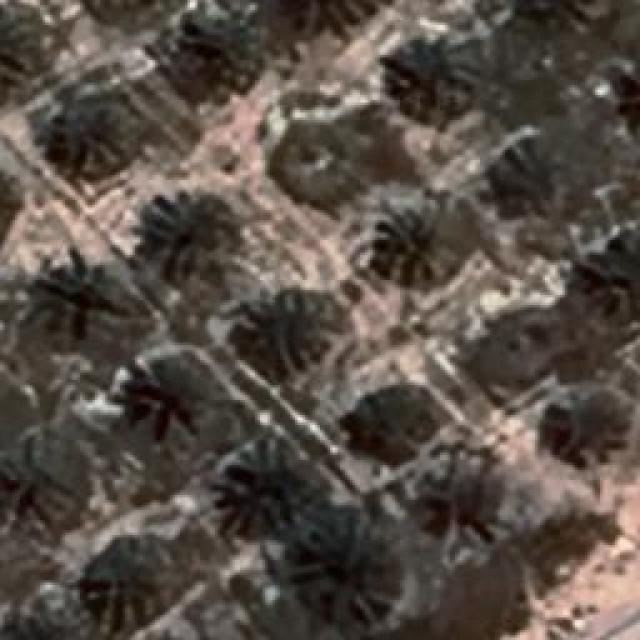PalmTree: (22, 15, 548, 82), (280, 515, 398, 620), (124, 361, 226, 451), (30, 255, 130, 343), (384, 38, 478, 128), (235, 287, 323, 375), (144, 190, 238, 272), (46, 97, 144, 175), (170, 8, 258, 94), (375, 200, 463, 285), (226, 446, 324, 519), (496, 134, 586, 208), (86, 541, 176, 611), (434, 454, 508, 538), (0, 440, 70, 525), (547, 386, 625, 462), (352, 385, 420, 445), (264, 0, 387, 30), (592, 234, 640, 308), (0, 605, 80, 640), (614, 49, 640, 140), (495, 0, 595, 22), (0, 154, 23, 245), (0, 617, 81, 640), (621, 49, 640, 134), (0, 154, 16, 248)
